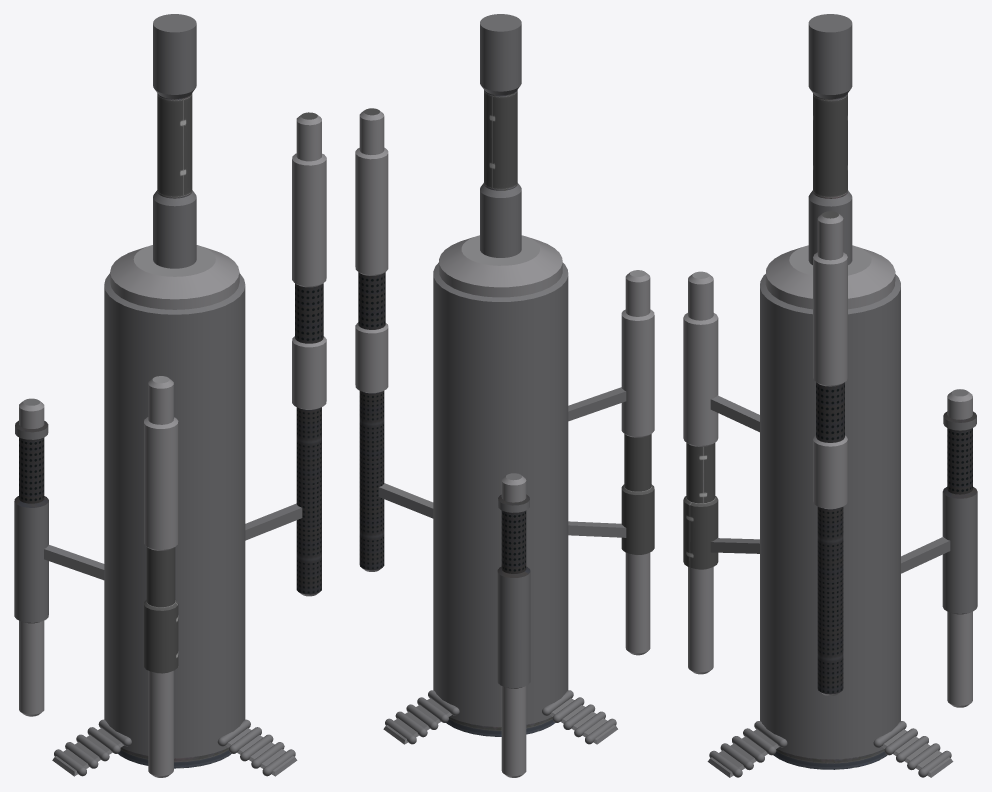
The model's file is SM_Antenna_01.fbx.
The picture shows the model from 3 angles, left to right: view 1: azimuth 30°, elevation 25°; view 2: azimuth 150°, elevation 25°; view 3: azimuth 270°, elevation 25°; orthographic projection. The views are drawn at different scales.
Visible parts, largest first — view 1: SM_Antenna_01_LOD0; view 2: SM_Antenna_01_LOD0; view 3: SM_Antenna_01_LOD0.
Part boxes in pixels (x1,y1,x2,y2): SM_Antenna_01_LOD0: (14, 14, 326, 777); SM_Antenna_01_LOD0: (355, 14, 654, 777); SM_Antenna_01_LOD0: (683, 14, 977, 777).
Bounding box in the file's own units: 233 × 227 × 612.
Materials: 3 (3 with a texture image).
